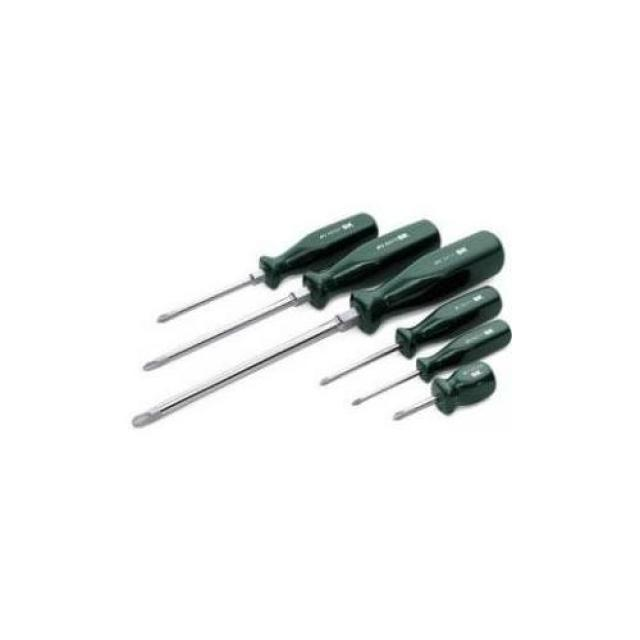screw driver: (114, 197, 395, 334), (386, 361, 528, 439)
